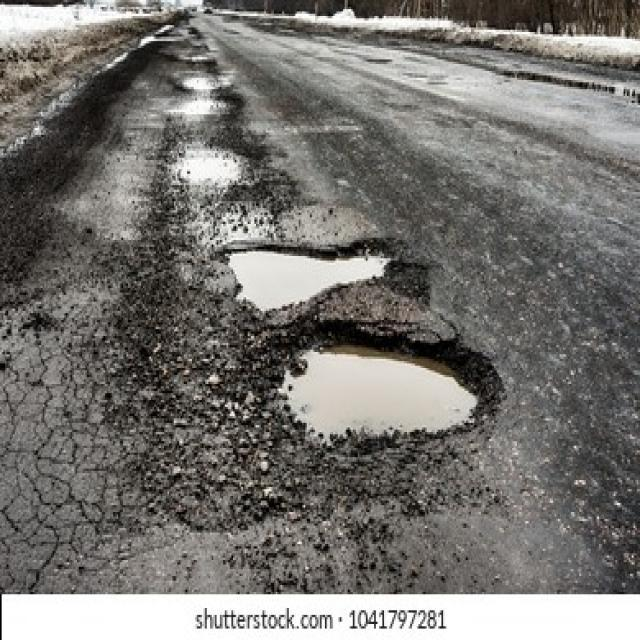Pothole: (277, 320, 491, 453), (220, 235, 396, 318)
